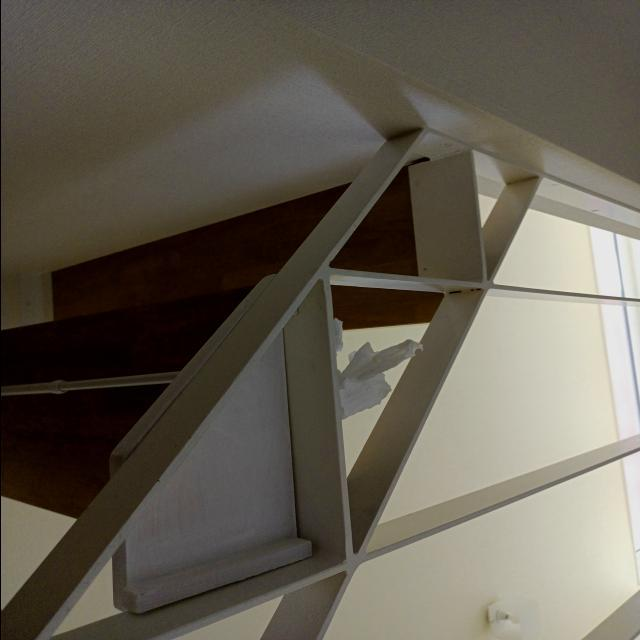Paper: (322, 314, 424, 440)
